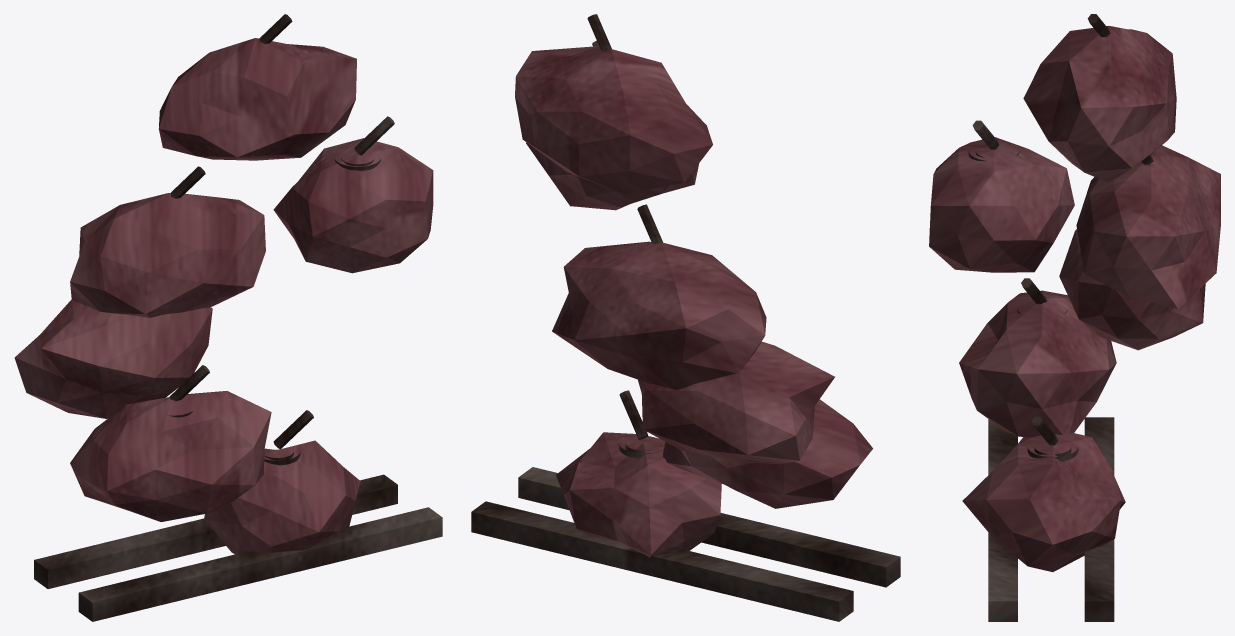
Rendered from 0810_sack_stack_10.glb.
The picture shows the model from 3 angles, left to right: view 1: azimuth 30°, elevation 25°; view 2: azimuth 150°, elevation 25°; view 3: azimuth 270°, elevation 25°; orthographic projection. The views are drawn at different scales.
Visible parts, largest first — view 1: cloth, wood_dark; view 2: cloth, wood_dark; view 3: cloth, wood_dark.
Boxes of the visible parts, <box> form: cloth: <box>14,38,433,554</box>; wood_dark: <box>34,14,442,621</box>; cloth: <box>515,46,872,557</box>; wood_dark: <box>471,14,900,621</box>; cloth: <box>929,26,1220,571</box>; wood_dark: <box>968,14,1153,621</box>.
Bounding box in the file's own units: 1.9 × 2.7 × 1.27.
Materials: 2 (2 with a texture image).
